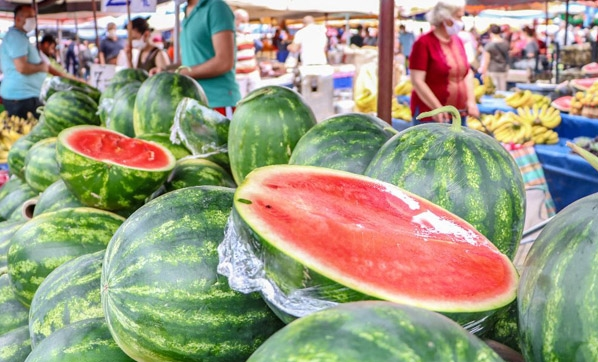Watermelon: (224, 91, 312, 178)
